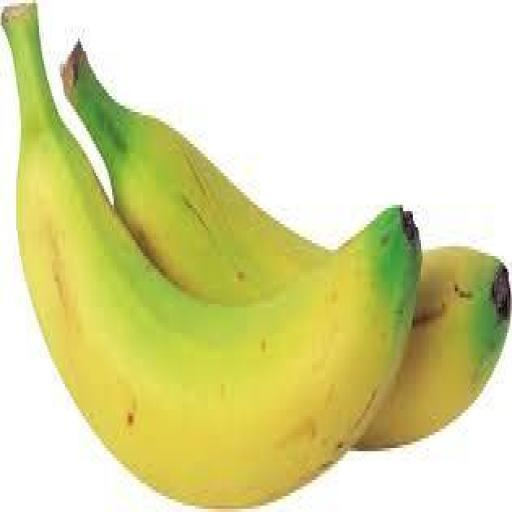banana: (2, 7, 420, 505), (64, 45, 331, 303)
